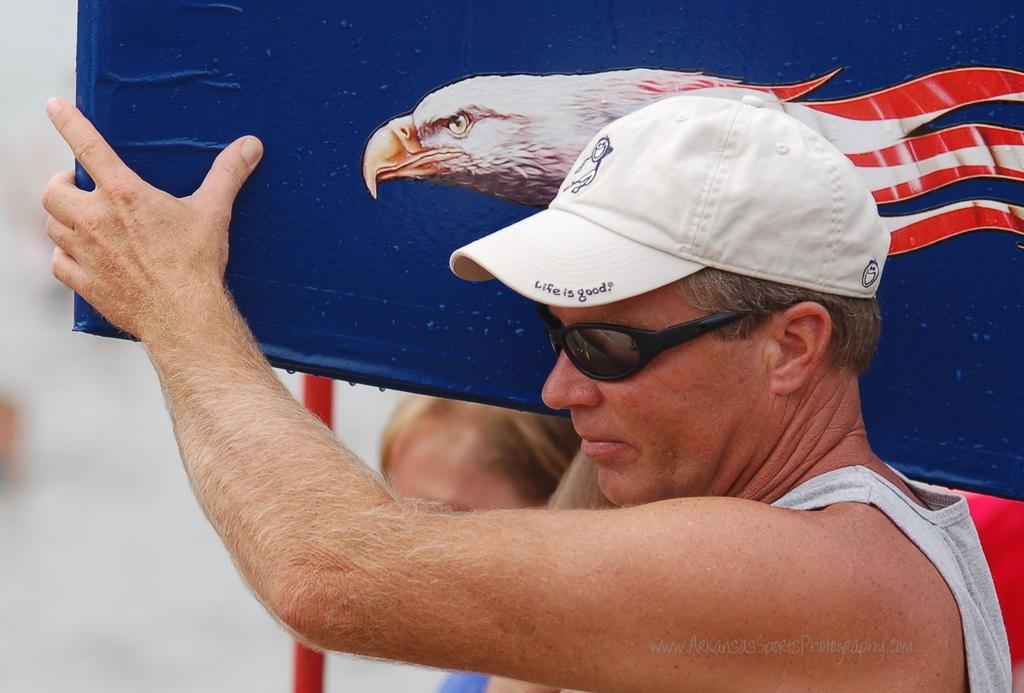Hat: (436, 80, 891, 304)
